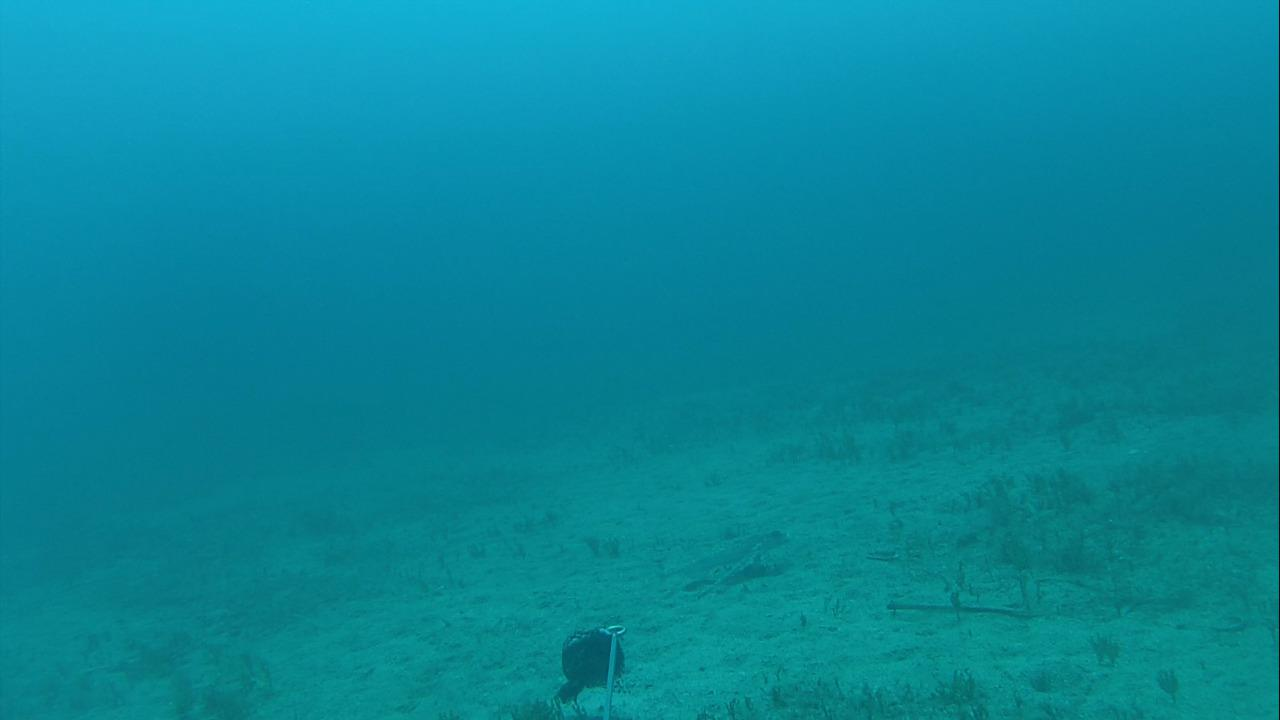dactylopterus: (655, 521, 796, 607)
